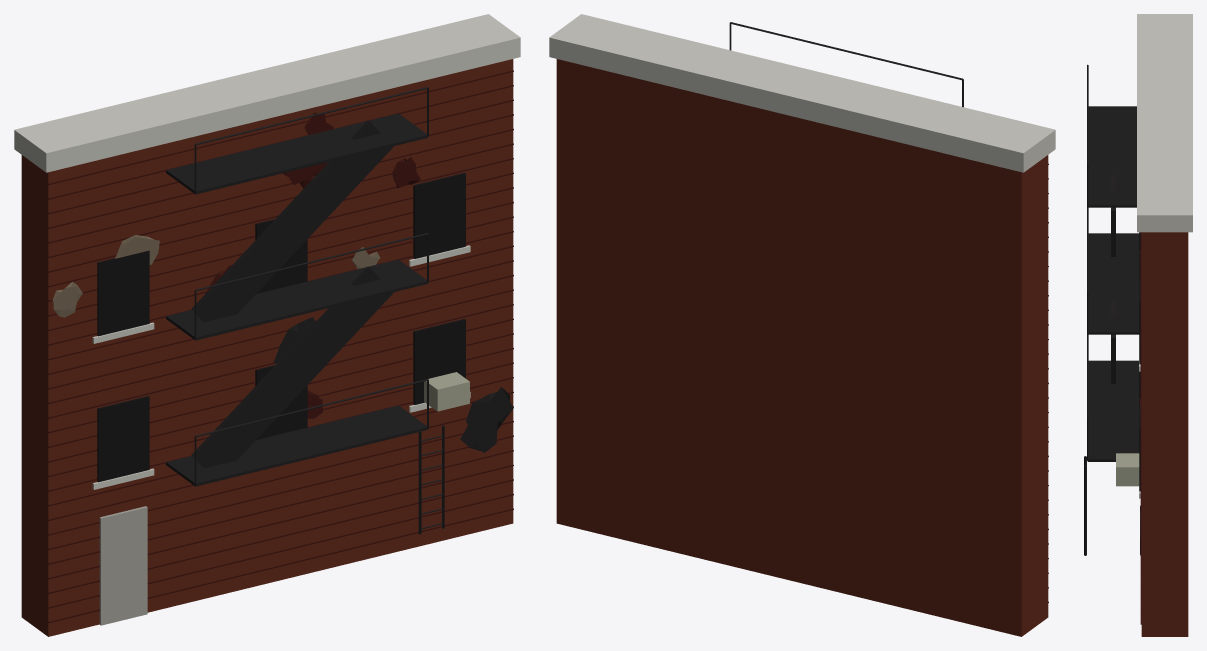
The model's file is downtown_fire_escape.glb.
3 views of the same model, side by side, from view 1: azimuth 30°, elevation 25°; view 2: azimuth 150°, elevation 25°; view 3: azimuth 270°, elevation 25° (orthographic). The views are drawn at different scales.
Visible parts, largest first — view 1: downtown_fire_escape; view 2: downtown_fire_escape; view 3: downtown_fire_escape.
Part boxes in pixels (x1,y1,x2,y2): downtown_fire_escape: (14,14,520,636); downtown_fire_escape: (549,14,1055,636); downtown_fire_escape: (1084,14,1192,636).
Size of the model in its own units: 10.2 by 10.02 by 2.33.
